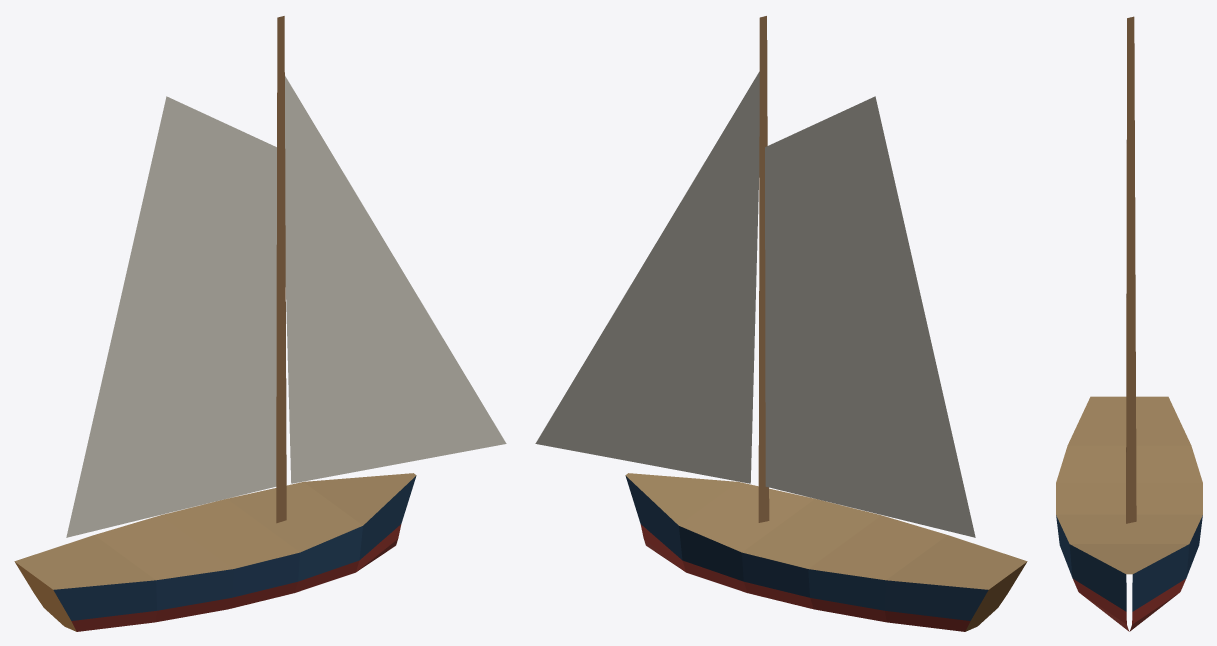
Rendered from hull_usd_sloop_small_lod.glb.
3 views of the same model, side by side, from view 1: azimuth 30°, elevation 25°; view 2: azimuth 150°, elevation 25°; view 3: azimuth 270°, elevation 25° (orthographic).
Parts seen in each view (by area): view 1: lod; view 2: lod; view 3: lod.
Part boxes in pixels (x1,y1,x2,y2): lod: (14, 16, 506, 631); lod: (535, 16, 1027, 631); lod: (1056, 16, 1202, 631).
Bounding box in the file's own units: 12.4 × 14.44 × 3.33.
